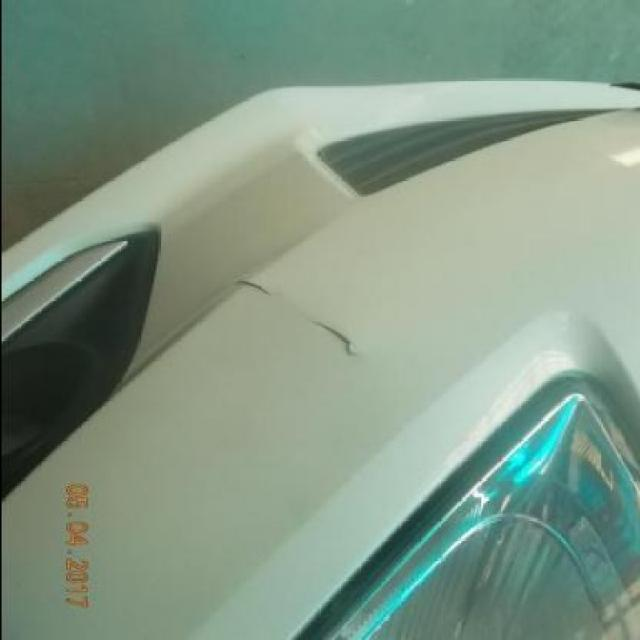damage: (307, 318, 364, 355), (228, 275, 275, 303)
